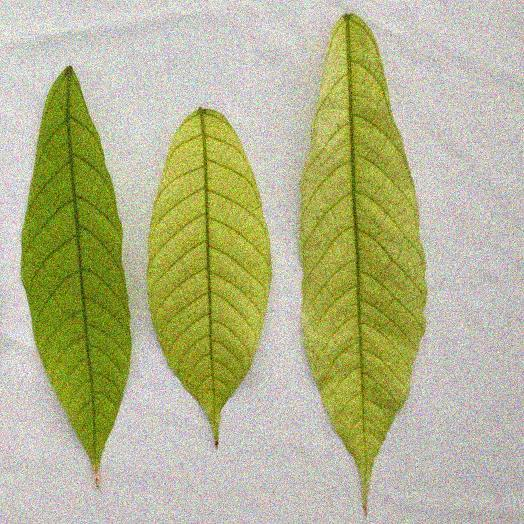Iron: (300, 14, 426, 512), (21, 66, 129, 485), (147, 107, 271, 446)
